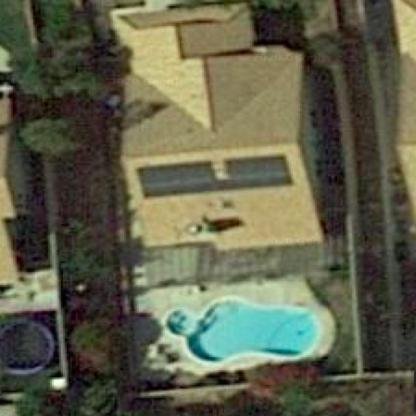solar_panel: (133, 157, 300, 196)
swimming_pool: (166, 288, 331, 372)
